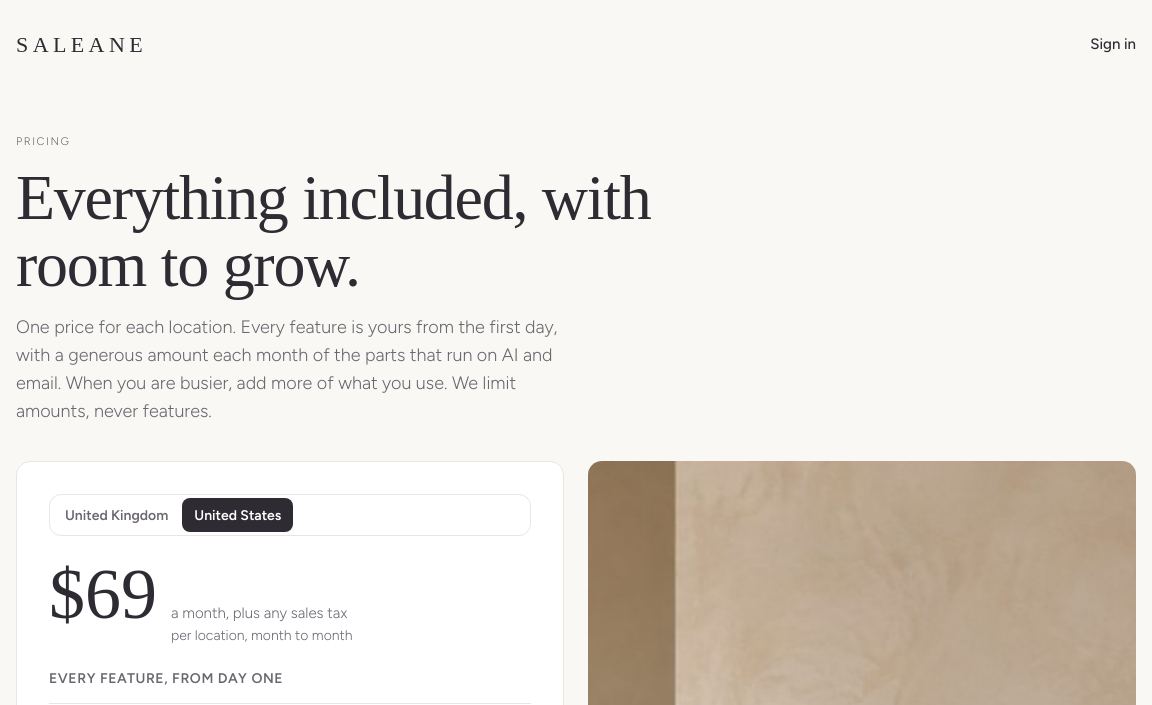
shows one price for each location and switches country
The image size is (1152, 705).
Expected: the heading "Everything included, with room to grow." is shown, [16, 164, 736, 298]
Expected: the text "We limit amounts, never features." is shown, [16, 316, 557, 422]
Step 1. Click the radio button labelled "United Kingdom" → (117, 515), box [53, 498, 180, 532]
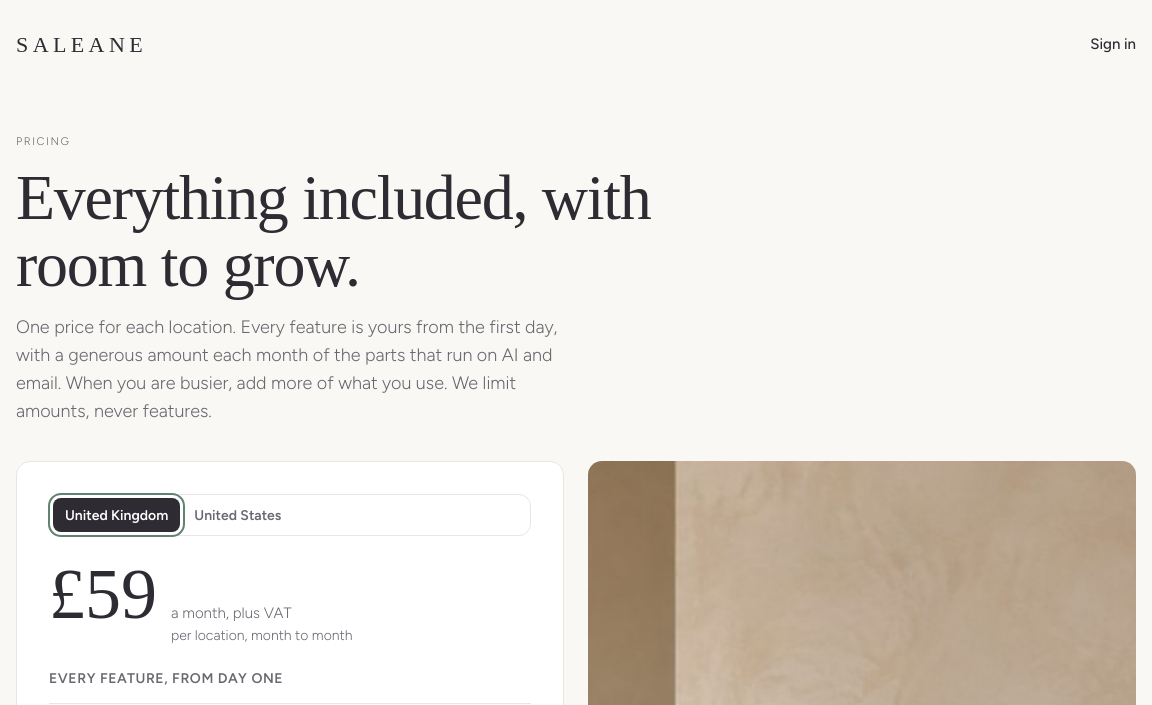
Now the text "£59" is shown, box [49, 558, 157, 630]
Step 2. Click the radio button labelled "United States" → (238, 515), box [182, 498, 293, 532]
(page scrolled)
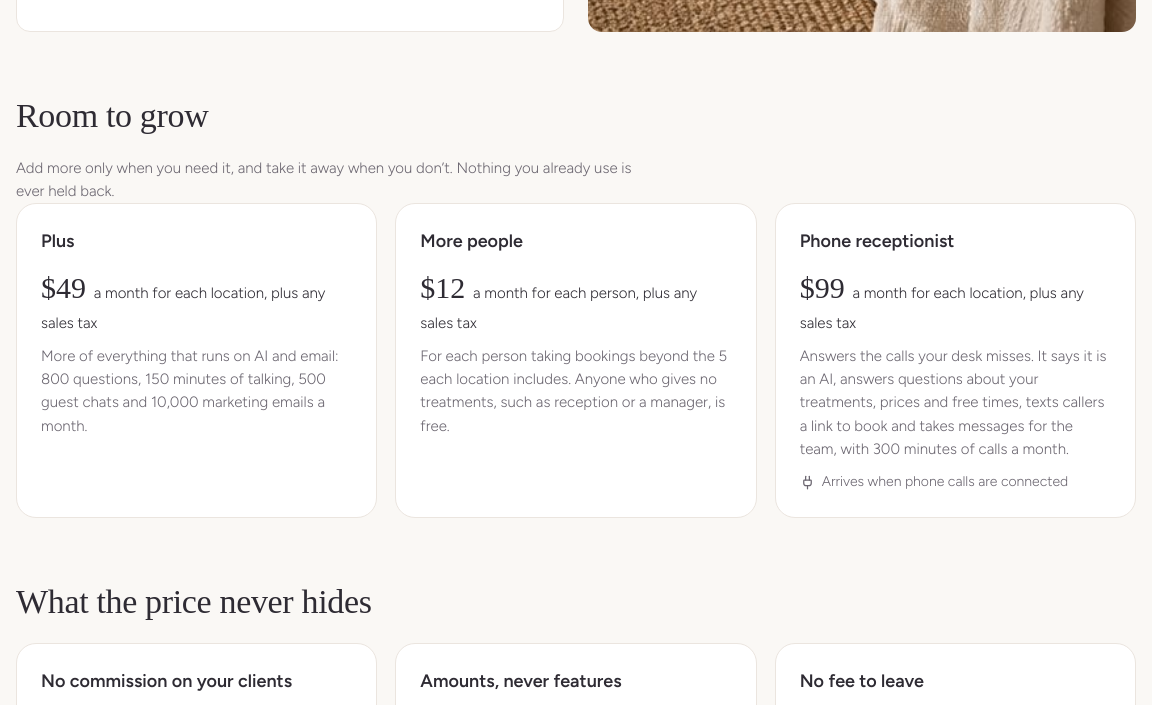
Now the list item that starts with "More people" shows "$12 a month for each person, plus any sales tax", box [395, 203, 757, 518]
